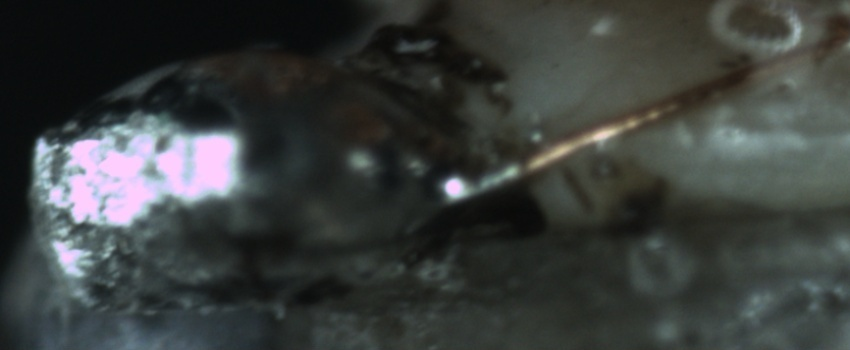TS: (441, 157, 520, 204)
